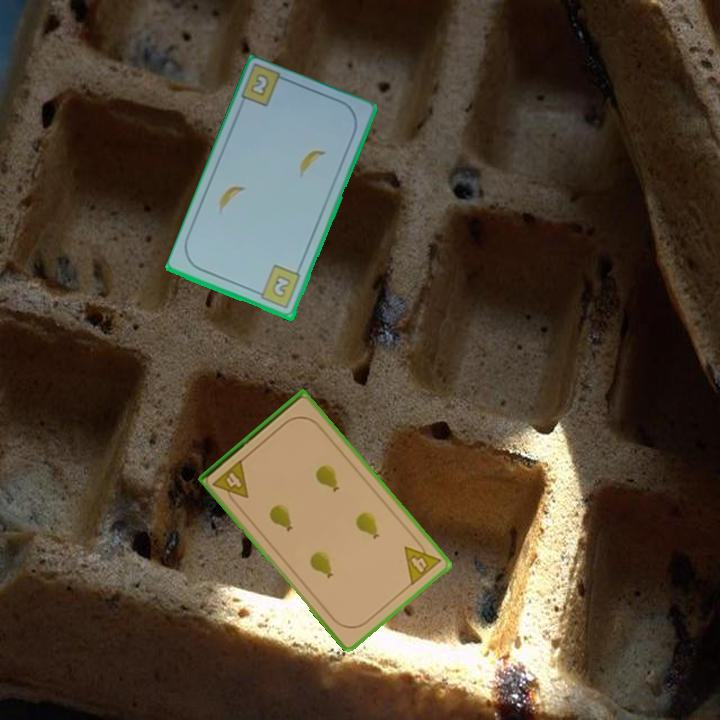2b: (252, 262, 304, 312), (247, 70, 272, 99)
4p: (400, 534, 444, 589), (209, 455, 252, 508)
